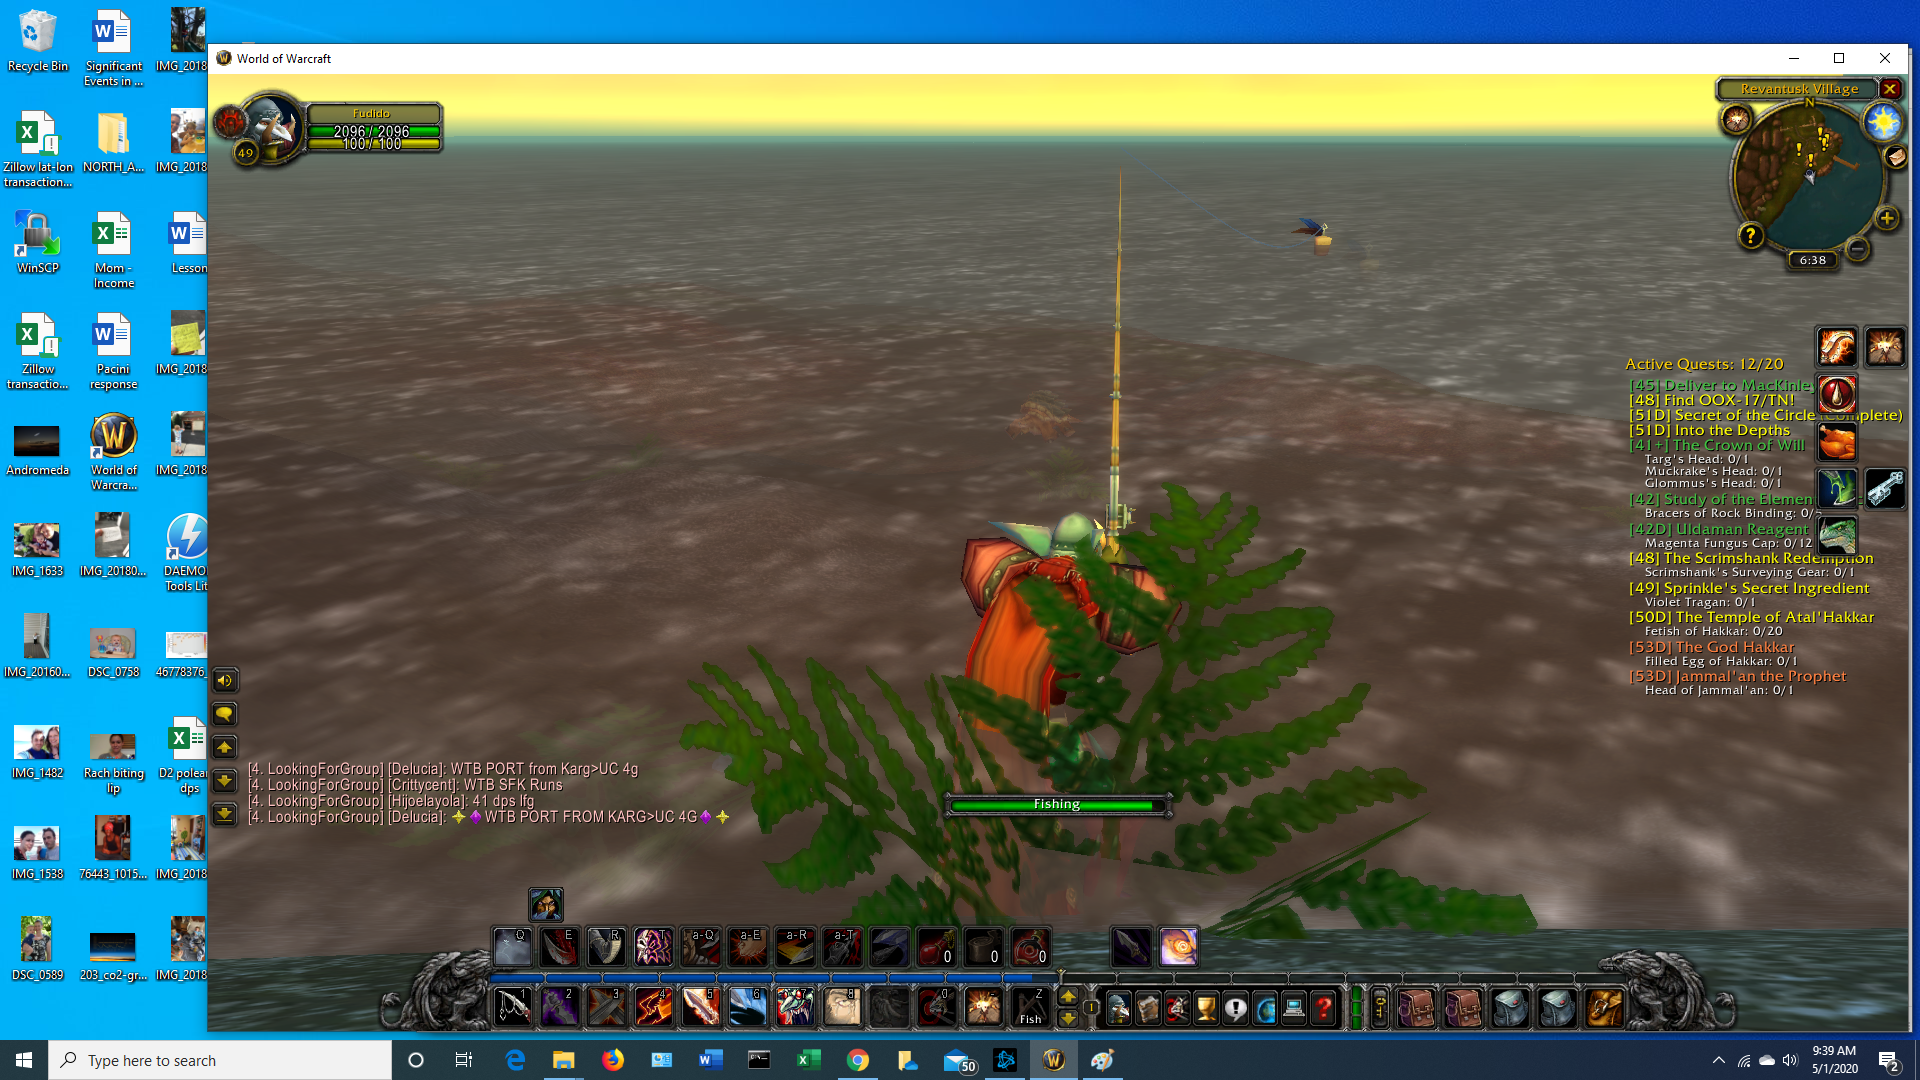bobble: (1292, 212, 1338, 260)
